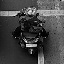motor: (16, 7, 45, 54)
